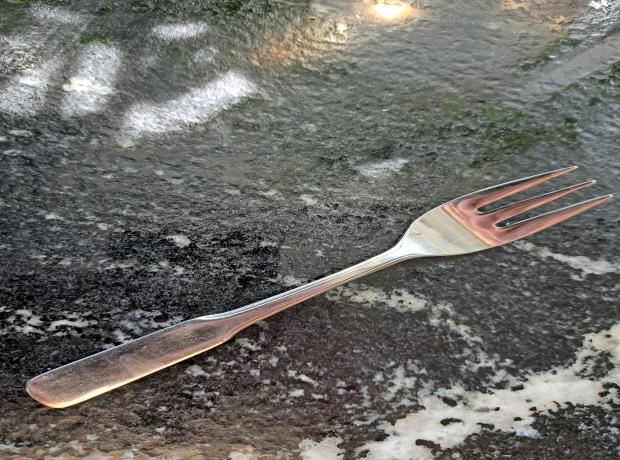metal: (14, 165, 616, 416)
